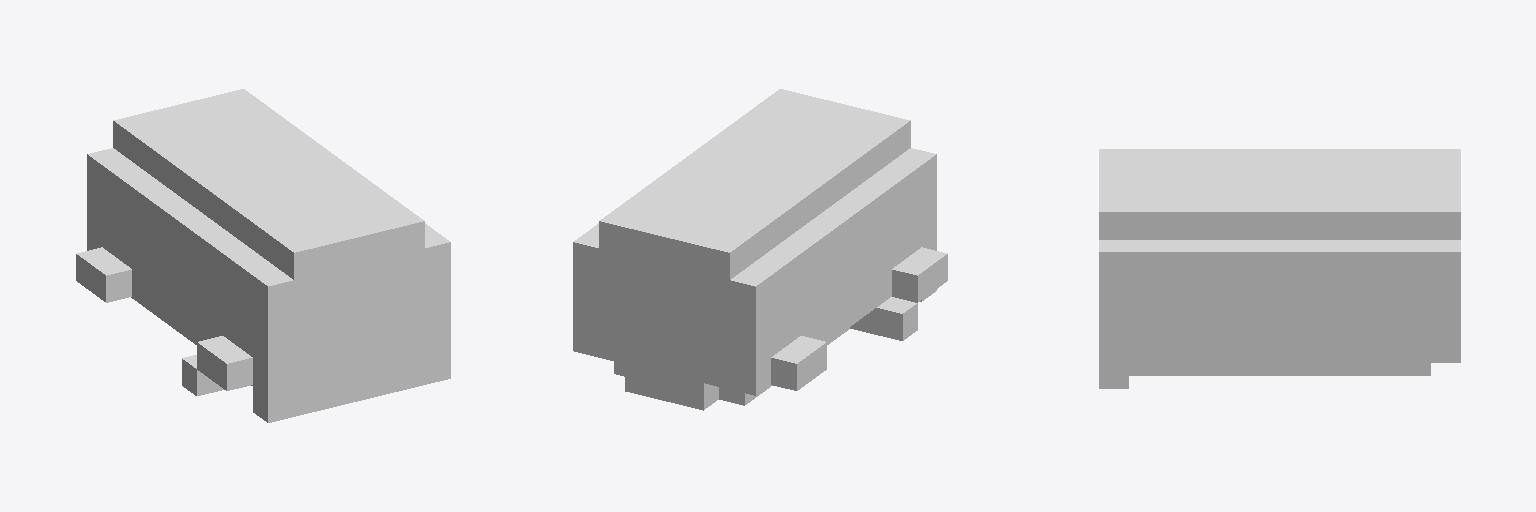
3 renders of one model, left to right at view 1: azimuth 30°, elevation 25°; view 2: azimuth 150°, elevation 25°; view 3: azimuth 270°, elevation 25°, orthographic.
Visible parts, largest first — view 1: object 1; view 2: object 1; view 3: object 1.
Part boxes in pixels (bbox=[...]): object 1: bbox=[76, 89, 450, 422]; object 1: bbox=[573, 89, 947, 410]; object 1: bbox=[1099, 149, 1460, 388].
Bounding box in the file's own units: 0.8 × 0.6 × 1.2.
Materials: 1 (1 with a texture image).